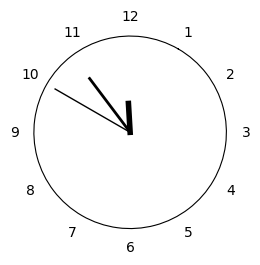12: (122, 9, 139, 23)
circle: (34, 36, 226, 228)
hours: (125, 100, 133, 135)
minutes: (87, 76, 127, 129)
seconds: (54, 88, 125, 129)
